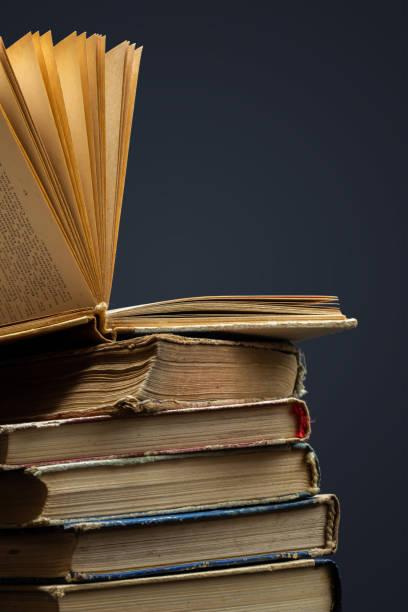paper: (0, 27, 368, 339), (0, 491, 348, 588), (0, 440, 332, 527), (0, 340, 314, 413), (0, 397, 322, 468), (0, 558, 346, 612)
